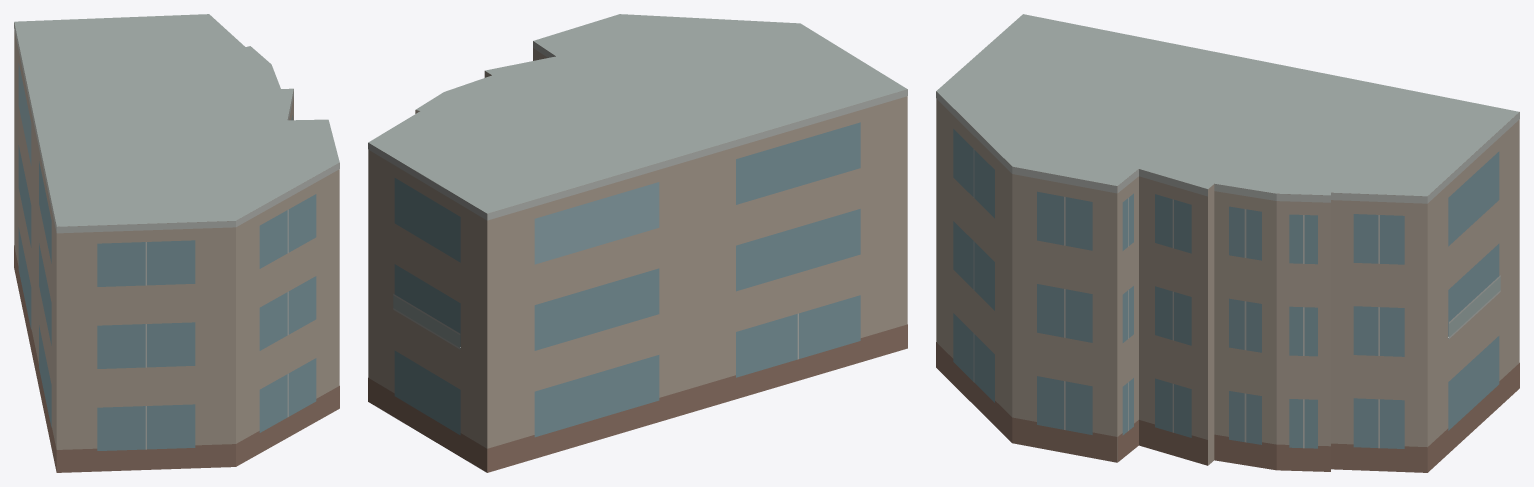
Rendered from survey-upis-32660924.glb.
3 views of the same model, side by side, from view 1: azimuth 30°, elevation 25°; view 2: azimuth 150°, elevation 25°; view 3: azimuth 270°, elevation 25° (orthographic). The views are drawn at different scales.
Visible parts, largest first — view 1: survey-upis-32660924.tmp; view 2: survey-upis-32660924.tmp; view 3: survey-upis-32660924.tmp.
Boxes of the visible parts, x1,y1,x2,y2 form: survey-upis-32660924.tmp: (14, 14, 339, 472); survey-upis-32660924.tmp: (368, 14, 907, 472); survey-upis-32660924.tmp: (936, 14, 1519, 472).
Size of the model in its own units: 12.94 by 9.15 by 17.5.
